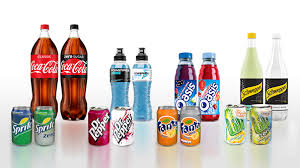coke-bottle-2l: (25, 21, 57, 106)
coke-zero-bottle-2l: (57, 22, 87, 121)
sprite-can: (9, 104, 34, 146), (34, 106, 58, 145)
